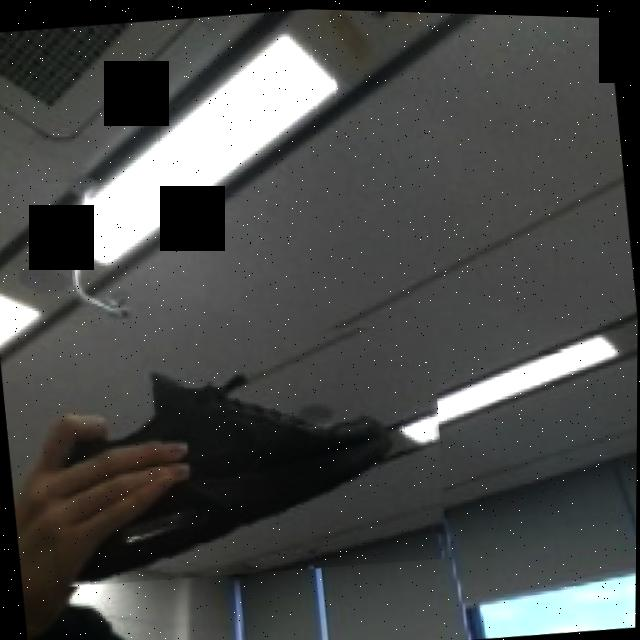shoe: (32, 298, 457, 596)
